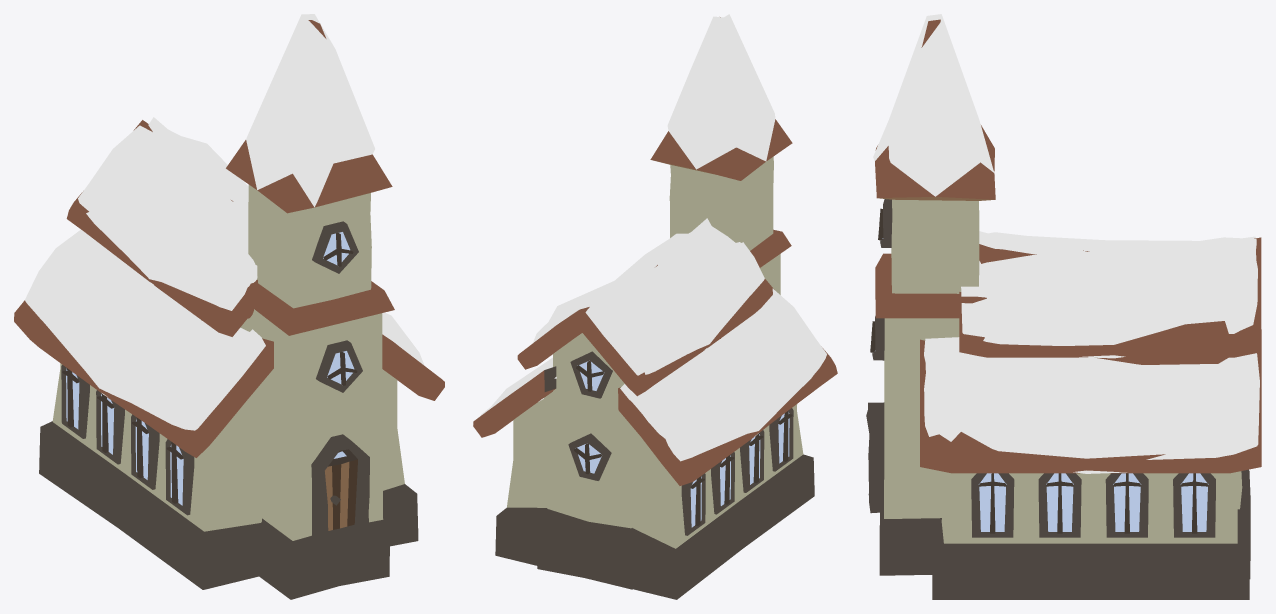
The model's file is church.dae.
3 views of the same model, side by side, from view 1: azimuth 30°, elevation 25°; view 2: azimuth 150°, elevation 25°; view 3: azimuth 270°, elevation 25° (orthographic). The views are drawn at different scales.
Parts seen in each view (by area): view 1: church-0; view 2: church-0; view 3: church-0.
Boxes of the visible parts, x1,y1,x2,y2 form: church-0: (14, 14, 444, 599); church-0: (473, 14, 837, 599); church-0: (866, 14, 1261, 599).
Bounding box in the file's own units: 11.17 × 22.89 × 15.3.
